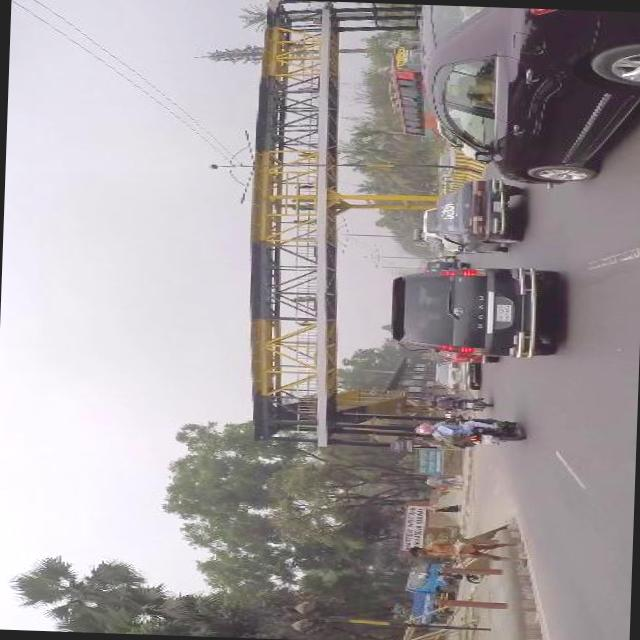bus: (374, 42, 440, 139)
car: (407, 6, 640, 191), (434, 176, 534, 253), (429, 94, 495, 163), (417, 202, 465, 251), (426, 359, 475, 392), (428, 346, 496, 369)
motorcycle: (454, 412, 534, 454), (449, 394, 493, 412)
truck: (388, 260, 562, 356), (398, 554, 466, 624)
